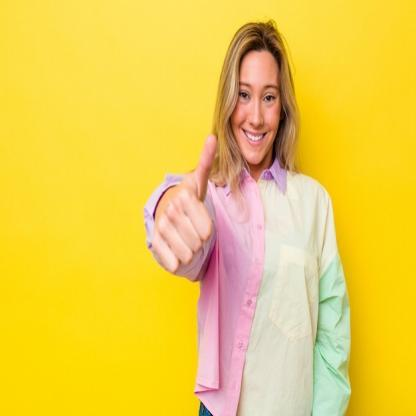thumb_up: (148, 129, 220, 283)
